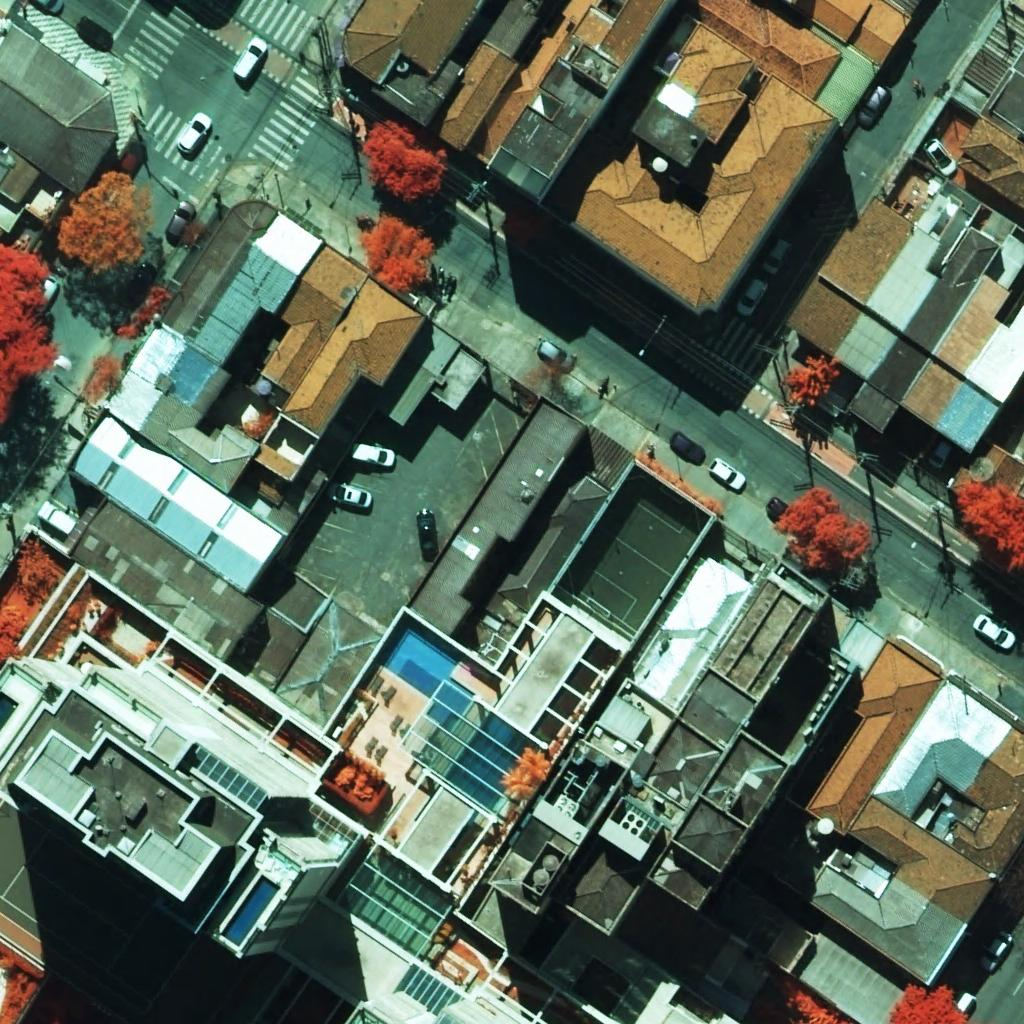pool: (378, 620, 461, 698), (221, 875, 280, 946)
